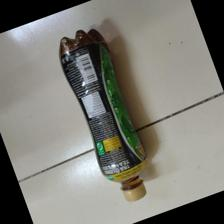Olong: (58, 26, 152, 201)
